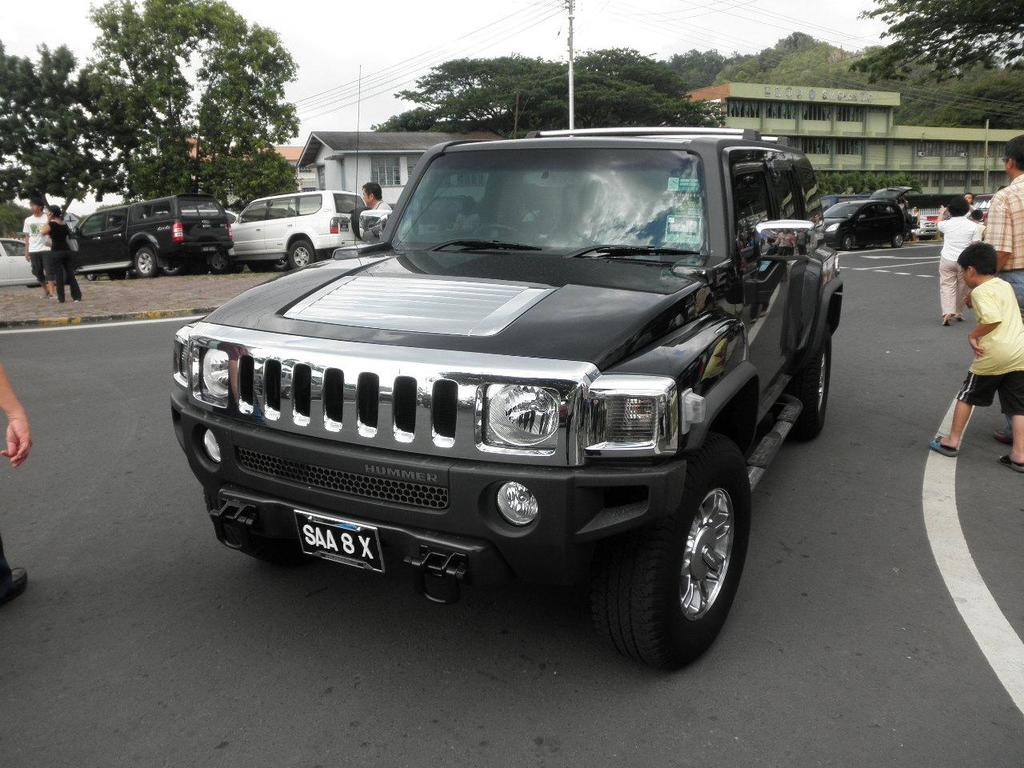person: (0, 353, 34, 615)
